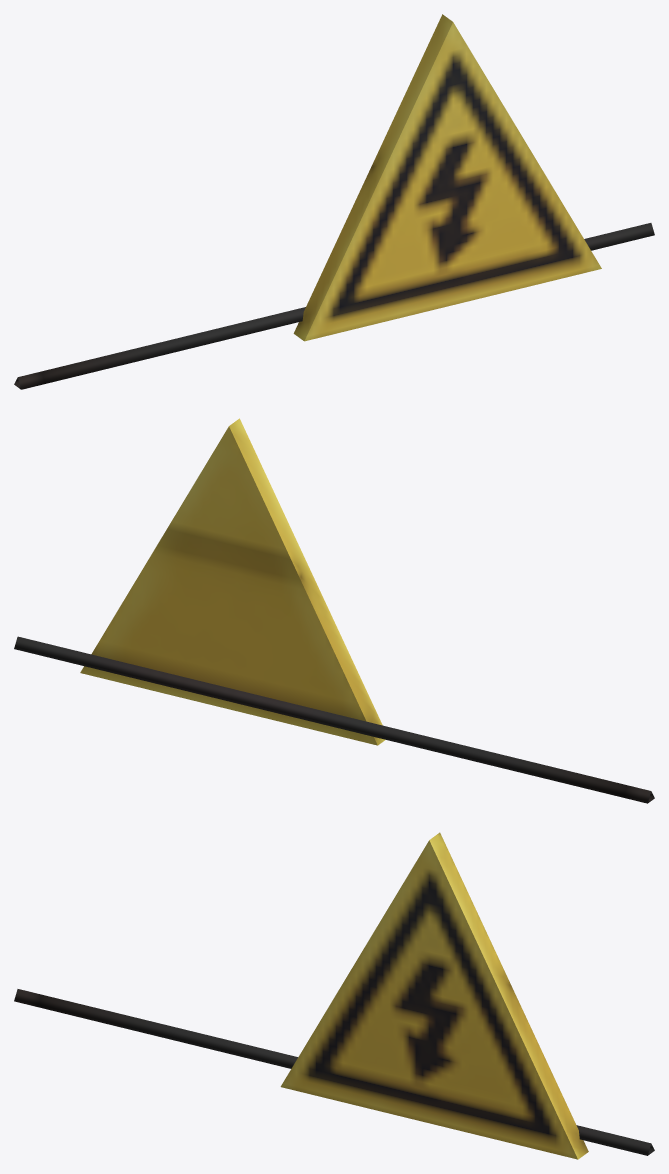
The model's file is B1Broke04.FBX.
3 renders of one model, top to bottom at view 1: azimuth 30°, elevation 25°; view 2: azimuth 150°, elevation 25°; view 3: azimuth 330°, elevation 25°, orthographic.
Parts seen in each view (by area): view 1: B1Broke04; view 2: B1Broke04; view 3: B1Broke04.
Boxes of the visible parts, x1,y1,x2,y2 form: B1Broke04: (14,14,654,389); B1Broke04: (14,418,654,803); B1Broke04: (14,832,654,1159).
Size of the model in its own units: 62.56 by 26.71 by 2.67.
